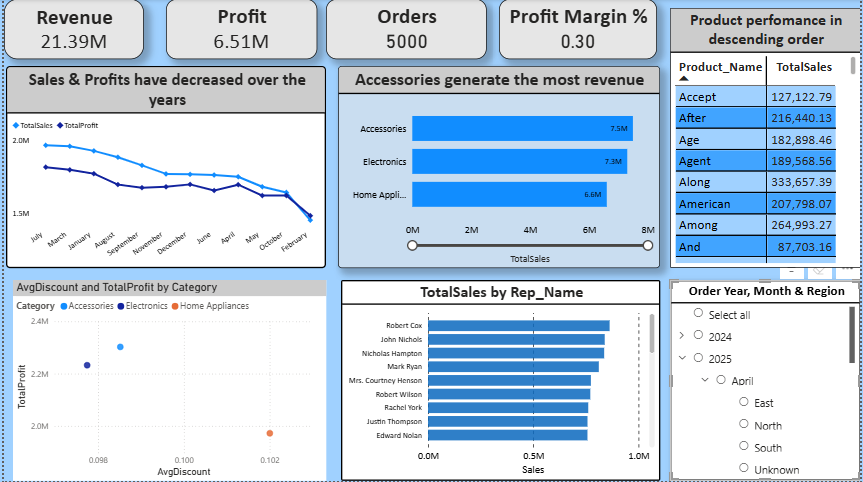

The page's visual inventory and layout, read from the dashboard file:
{"tool":"powerbi","page":{"name":"Page 1","canvas":[1280,720],"ordinal":0},"visuals":[{"type":"card","title":"Profit","fields":{"Values":["Sales.Total_profit"]},"box":[242,0,225.6,89.6],"z":0},{"type":"card","title":"Orders","fields":{"Values":["Sales.TotalOrders"]},"box":[481,0,240.5,89.6],"z":1000},{"type":"card","title":"Profit Margin %","fields":{"Values":["Sales.ProfitMarginPercent"]},"box":[739.4,0,236,89.6],"z":2000},{"type":"card","title":"Revenue","fields":{"Values":["Sales.Total_sales"]},"box":[0,0,209.1,89.6],"z":3000},{"type":"clusteredBarChart","title":"Accessories generate the most revenue","fields":{"Category":["Products.Category"],"Y":["Sales.TotalSales"]},"box":[498.9,100.1,481,301.7],"z":4000},{"type":"lineChart","title":"Sales & Profits have decreased over the years","fields":{"Category":["Sales.OrderMonth"],"Y":["Sales.TotalSales"],"Y2":["Sales.TotalProfit"]},"box":[3,100.1,478,301.7],"z":5000},{"type":"listSlicer","title":"Order Year, Month & Region","fields":{"Values":["Sales.OrderYear","Sales.OrderMonth","Customers.Region"]},"box":[994.9,419.8,285.3,300.2],"z":6000},{"type":"tableEx","title":"Product perfomance in descending order","fields":{"Values":["Products.Product_Name","Sales.TotalSales"]},"box":[994.9,13.4,285.3,388.4],"z":7000},{"type":"clusteredBarChart","fields":{"Category":["Sales_Reps.Rep_Name"],"Y":["Sales.TotalSales"]},"box":[503.4,419.8,476.5,300.2],"z":8000},{"type":"scatterChart","fields":{"X":["Sales.AvgDiscount"],"Y":["Sales.TotalProfit"],"Series":["Products.Category"]},"box":[13.4,419.8,467.6,300.2],"z":9000}]}

Visuals, with their boxes in screenshot pixels (x1, y1, x2, y2), scaled from the page's 1280x720 canvas onto the 863x482 screenshot:
"Profit" card: 163:0:315:60
"Orders" card: 324:0:486:60
"Profit Margin %" card: 499:0:658:60
"Revenue" card: 0:0:141:60
"Accessories generate the most revenue" clusteredBarChart: 336:67:661:269
"Sales & Profits have decreased over the years" lineChart: 2:67:324:269
"Order Year, Month & Region" listSlicer: 671:281:862:481
"Product perfomance in descending order" tableEx: 671:9:862:269
clusteredBarChart - Sales_Reps.Rep_Name x Sales.TotalSales: 339:281:661:481
scatterChart - Sales.AvgDiscount x Sales.TotalProfit: 9:281:324:481
